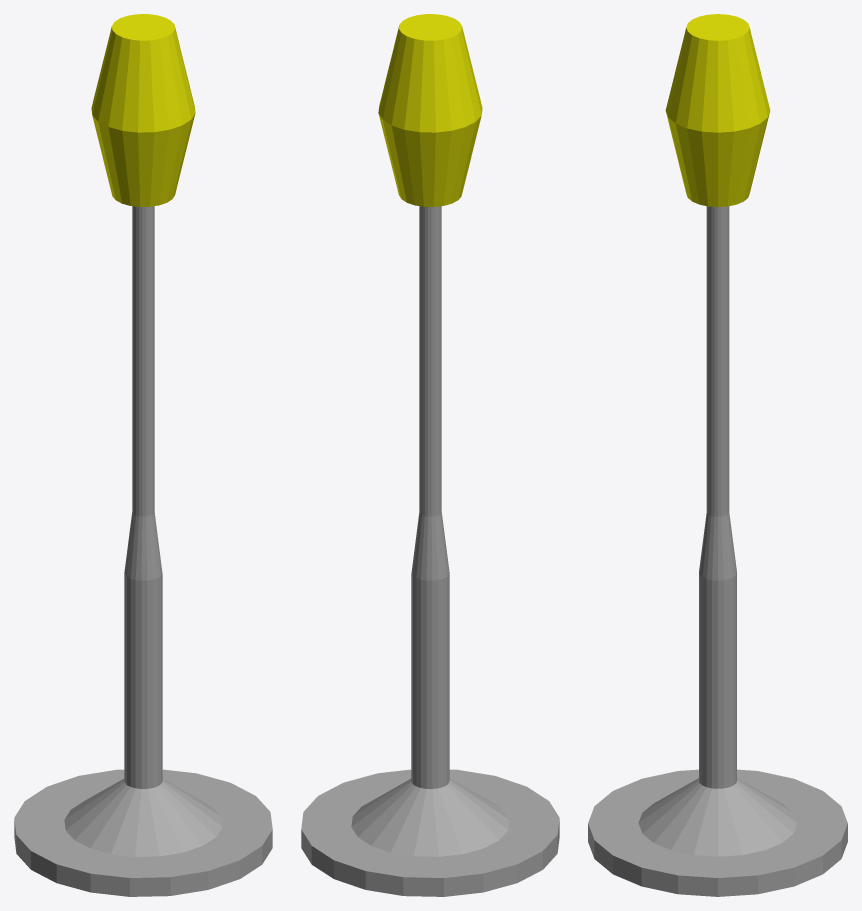
The model's file is TallLamp_Stand.fbx.
The picture shows the model from 3 angles, left to right: view 1: azimuth 30°, elevation 25°; view 2: azimuth 150°, elevation 25°; view 3: azimuth 270°, elevation 25°; orthographic projection.
Parts seen in each view (by area): view 1: pCylinder3; view 2: pCylinder3; view 3: pCylinder3.
Part boxes in pixels (x1,y1,x2,y2): pCylinder3: (14, 14, 272, 896); pCylinder3: (301, 14, 559, 896); pCylinder3: (588, 14, 847, 896).
Bounding box in the file's own units: 1.73 × 5.98 × 1.73.
